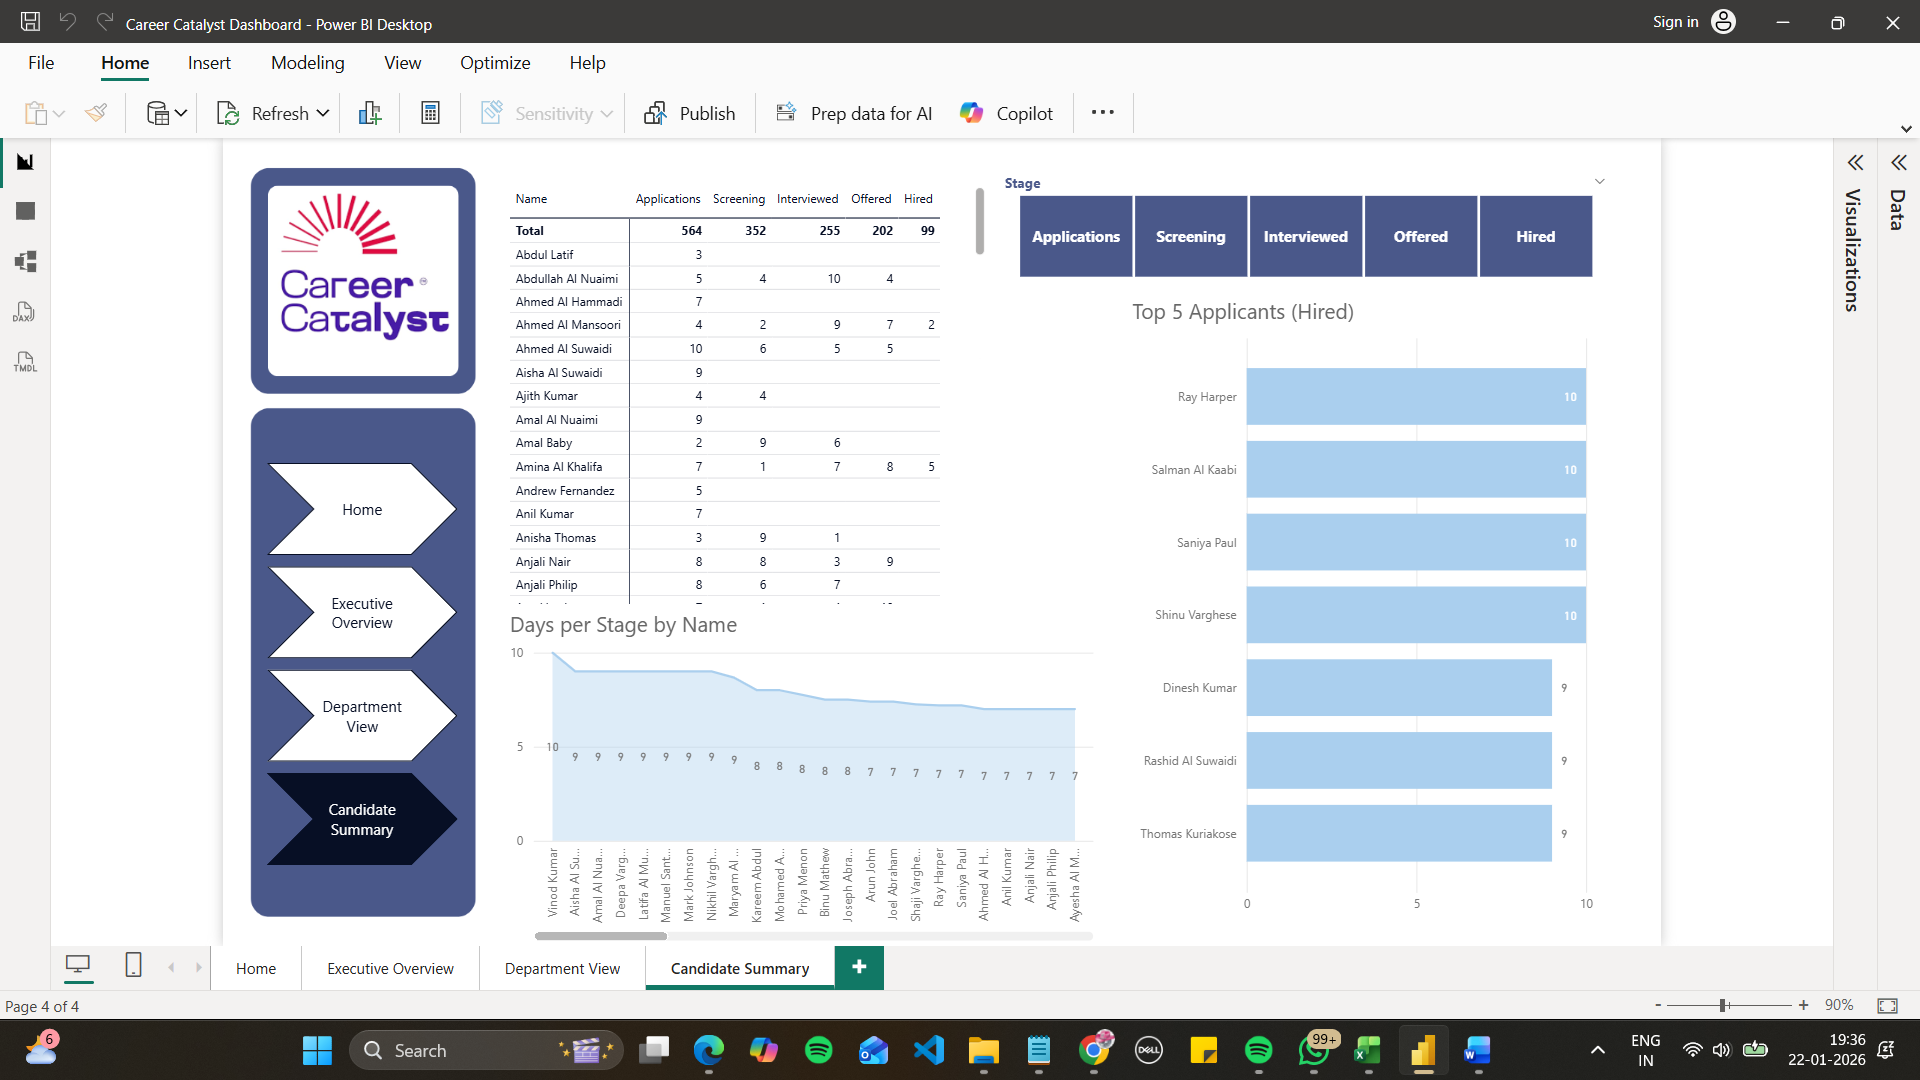

Layout of this report page (visuals, bound fields, positions):
{"tool":"powerbi","page":{"name":"Candidate Summary","canvas":[1280,720],"ordinal":3},"visuals":[{"type":"pageNavigator","box":[38.6,289.5,170.1,360.7],"z":0},{"type":"pivotTable","fields":{"Rows":["RecruitmentData.Name"],"Values":["Sum(RecruitmentData.DaysInStage)"],"Columns":["RecruitmentData.Stage"]},"box":[250.9,38.6,433.1,381.2],"z":1000},{"type":"slicer","fields":{"Values":["RecruitmentData.Stage"]},"box":[683.8,26.2,560,103.8],"z":2000},{"type":"stackedAreaChart","title":"Days per Stage by Name","fields":{"Category":["RecruitmentData.Name"],"Y":["RecruitmentData.Avg Days per Stage"]},"box":[250.9,419.8,529.6,300.4],"z":3000},{"type":"clusteredBarChart","title":"Top 5 Applicants (Hired)","fields":{"Category":["RecruitmentData.Name"],"Y":["Sum(RecruitmentData.DaysInStage)"]},"box":[805,141.2,438.8,557.5],"z":4000}]}

Visuals, with their boxes on the page's 1280x720 design canvas (x1, y1, x2, y2). These are canvas units, not pixel positions in the 1920x1080 screenshot, which may show the page scaled, cropped or inside an application window:
pageNavigator: {"x1": 39, "y1": 290, "x2": 209, "y2": 650}
pivotTable - RecruitmentData.Name x Sum(RecruitmentData.DaysInStage): {"x1": 251, "y1": 39, "x2": 684, "y2": 420}
slicer - RecruitmentData.Stage: {"x1": 684, "y1": 26, "x2": 1244, "y2": 130}
"Days per Stage by Name" stackedAreaChart: {"x1": 251, "y1": 420, "x2": 780, "y2": 720}
"Top 5 Applicants (Hired)" clusteredBarChart: {"x1": 805, "y1": 141, "x2": 1244, "y2": 699}
